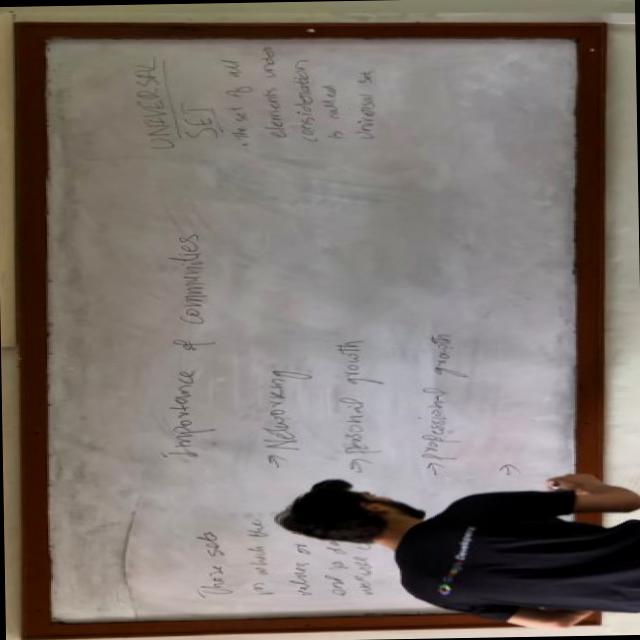Instructor: (262, 484, 638, 624)
White-board: (21, 22, 595, 634)
